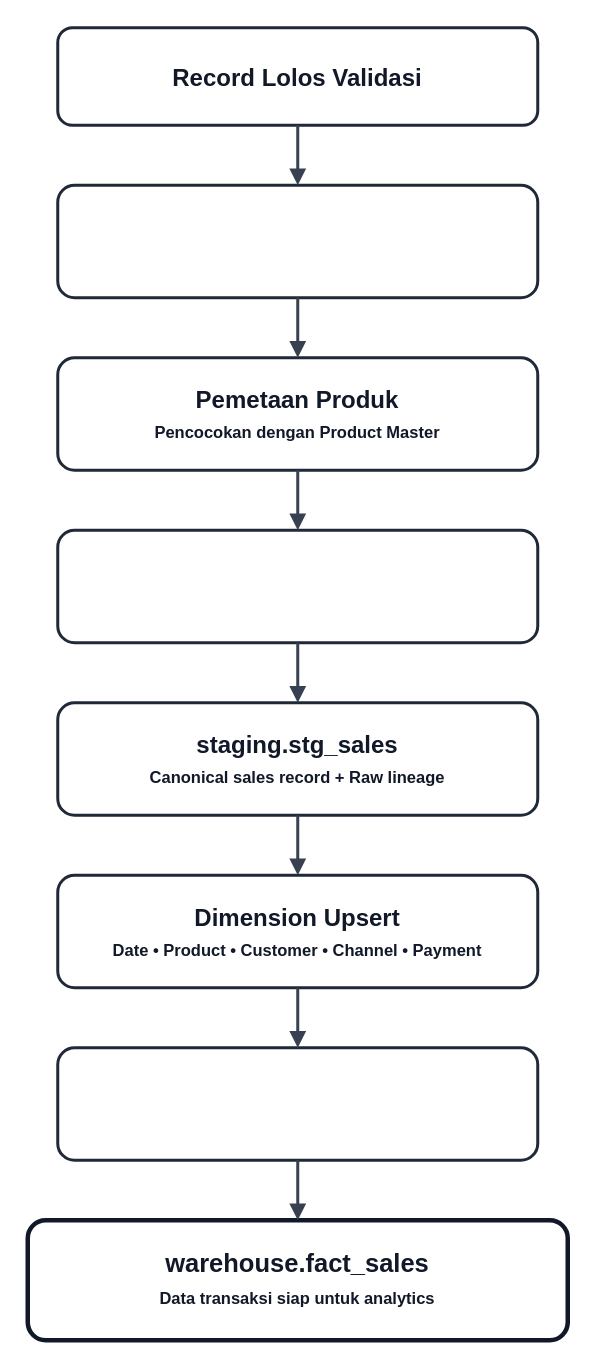
This 596x1368 diagram has some shape labels left out. Each missing label, with the centre of its shape:
"Cleaning dan Standardisasi Kolom, teks, tipe data, dan nilai bisnis" belongs at (x=297, y=240).
"Fact Upsert Resolve dimension keys dan muat transaksi" belongs at (x=297, y=1103).
"Integrasi Struktur Antar-Sumber Shopee • Tokopedia • Website • Offline Store" belongs at (x=297, y=586).
